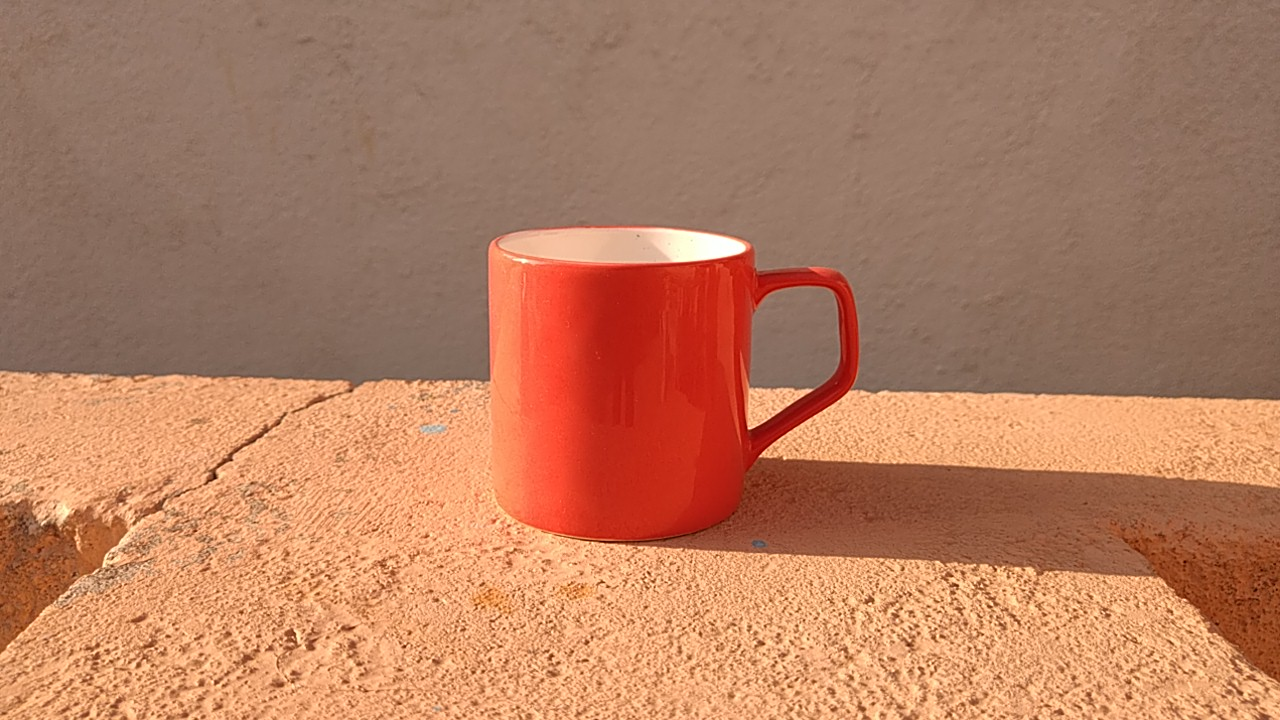cup: (467, 217, 869, 562)
